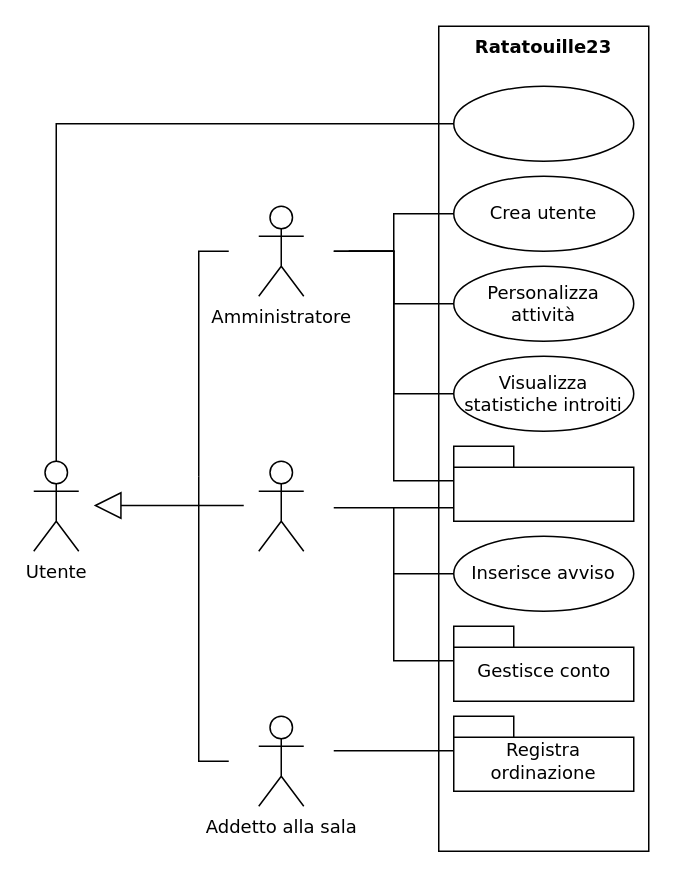
Image size: 675x878. Some labels were removed from this diagram. Each missing label, with the centre of its shape:
Effettua login: (543,123)
Personalizza menù: (543,483)
Supervisore: (280,505)
